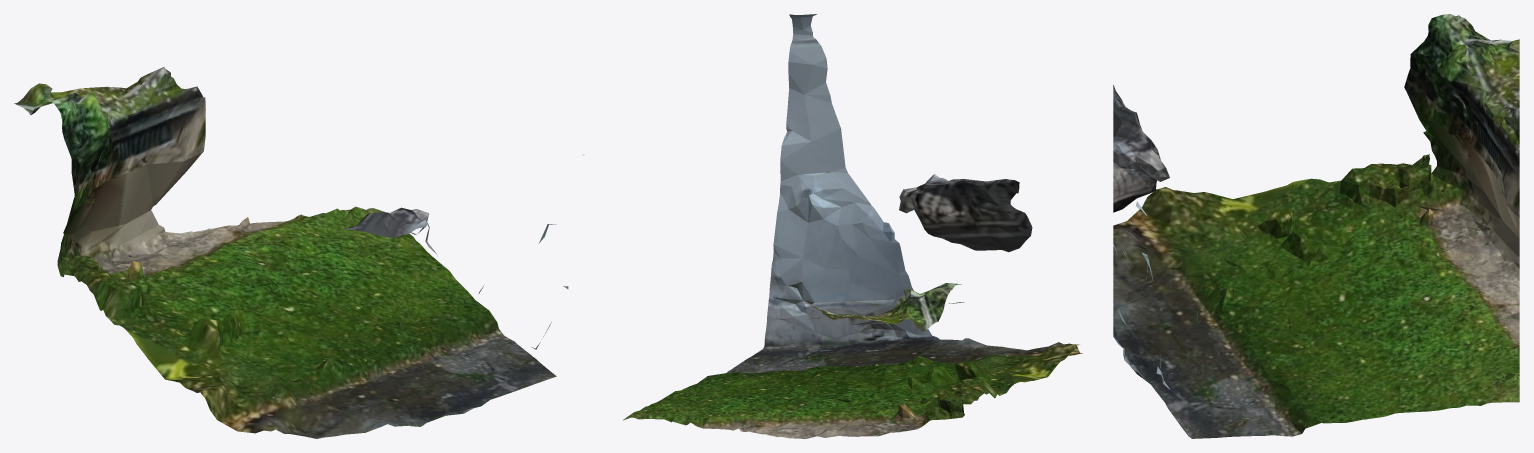
3 views of the same model, side by side, from view 1: azimuth 30°, elevation 25°; view 2: azimuth 150°, elevation 25°; view 3: azimuth 270°, elevation 25° (orthographic). The views are drawn at different scales.
Bounding box in the file's own units: 6.7 × 6.68 × 6.7.
Materials: 4 (4 with a texture image).
